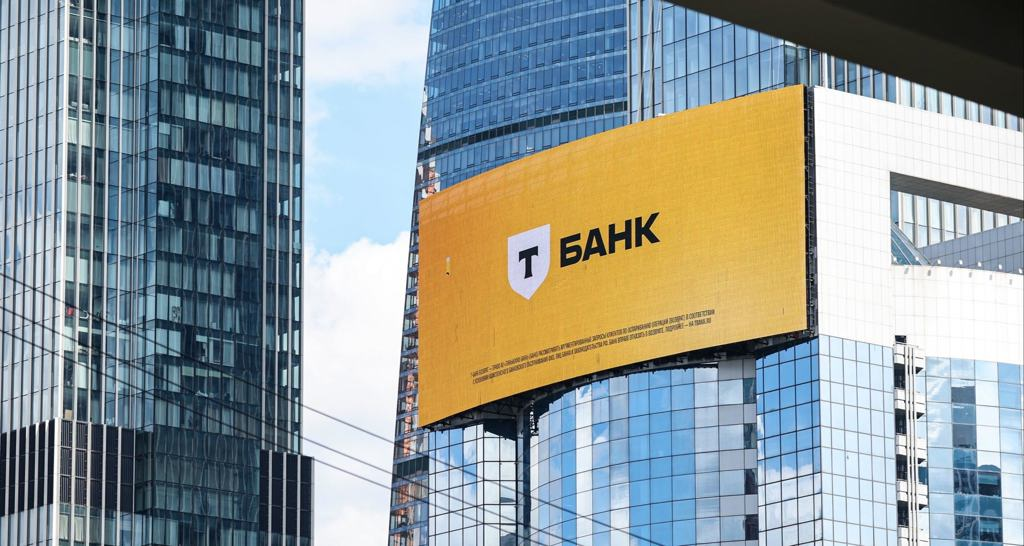TBank: (508, 225, 550, 299)
